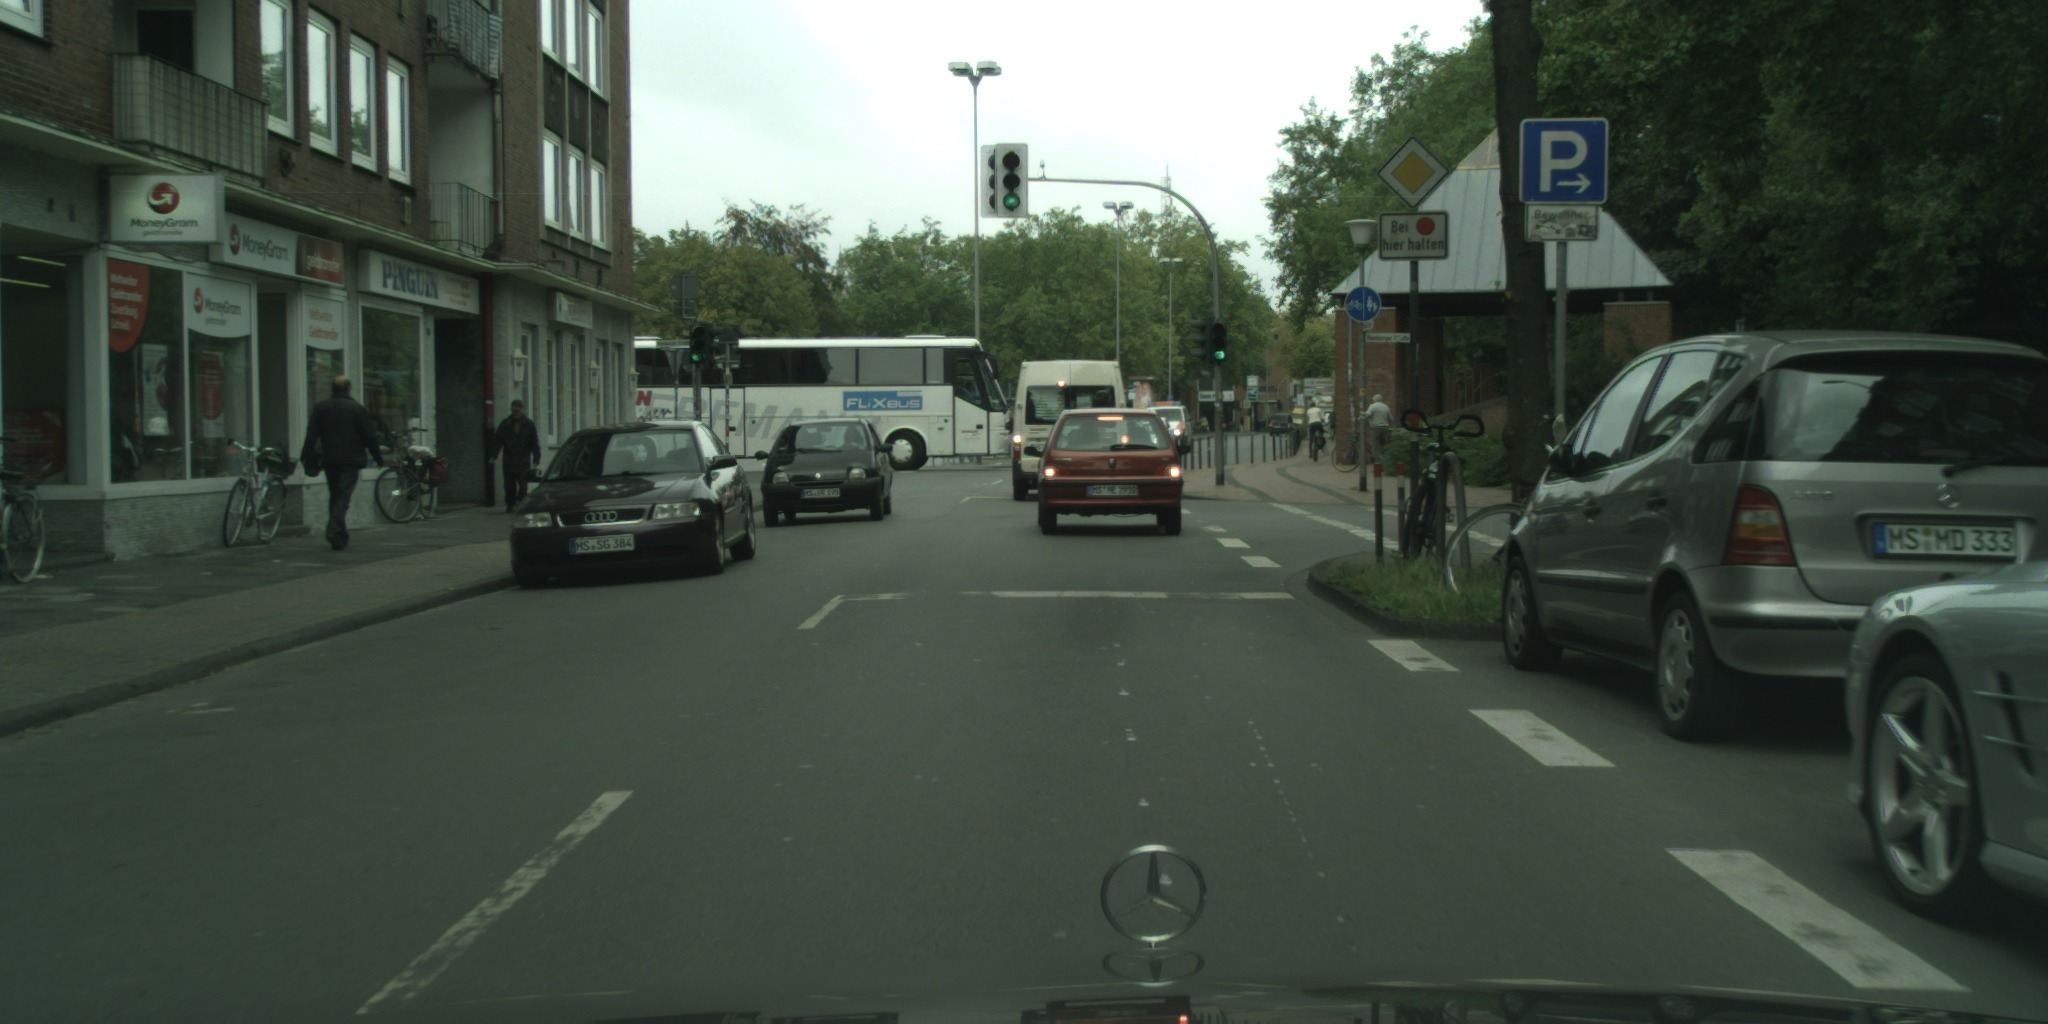bicycle: (1445, 415, 1590, 593), (1397, 406, 1485, 555), (223, 437, 300, 548), (0, 435, 55, 584), (374, 427, 448, 525), (1332, 428, 1397, 473), (1314, 428, 1320, 464)
bus: (632, 333, 1017, 471)
car: (1501, 328, 2047, 744), (1843, 561, 2046, 933), (510, 418, 757, 590), (1024, 408, 1193, 536), (1005, 359, 1132, 501), (754, 418, 894, 527), (1144, 401, 1193, 458), (1268, 412, 1293, 437)
person: (300, 374, 384, 551), (487, 399, 541, 513), (1361, 392, 1394, 472), (1307, 394, 1324, 458)
rider: (1307, 394, 1324, 458)
truck: (1289, 405, 1308, 435)
